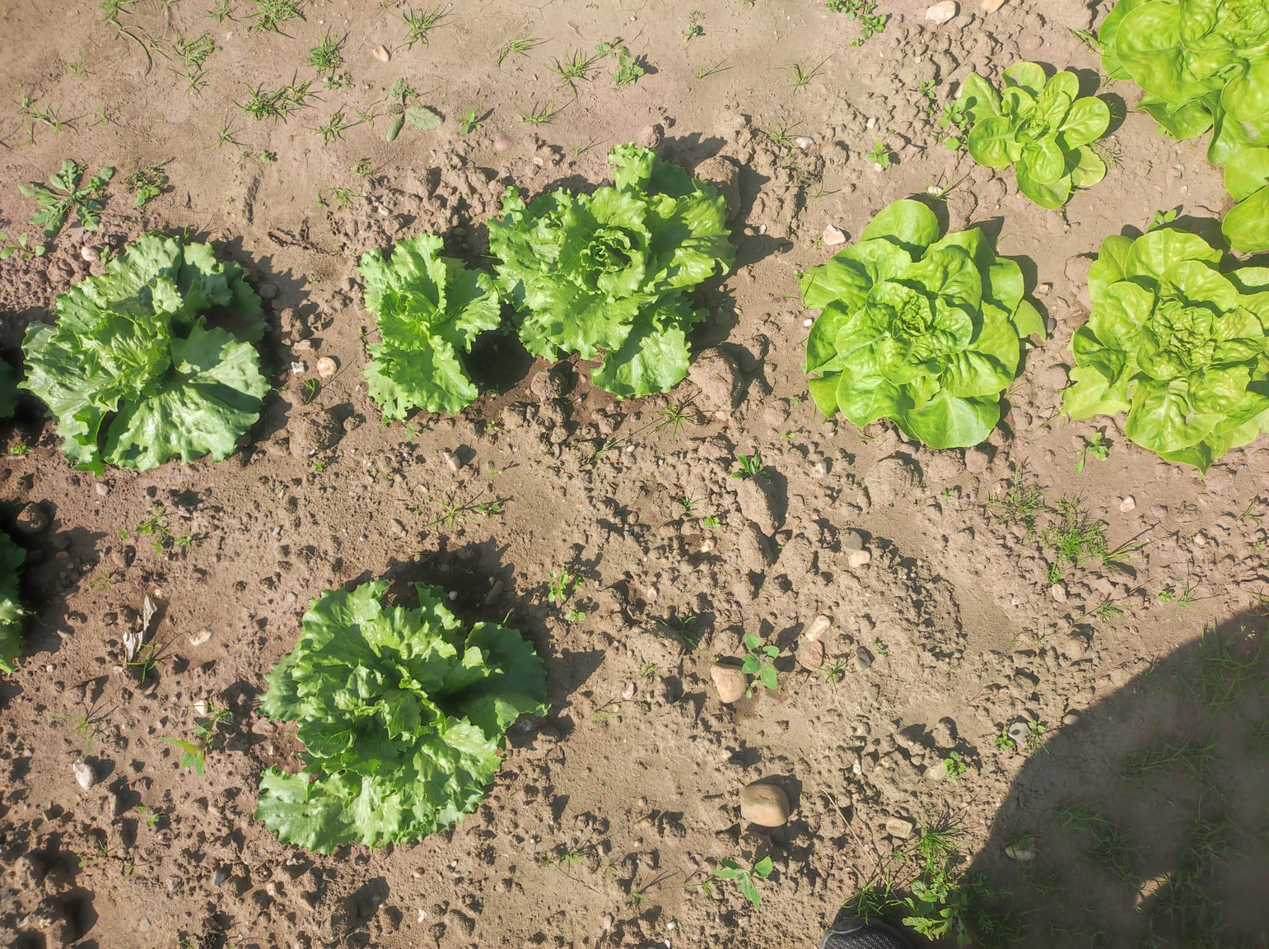Healthy: (253, 580, 546, 854), (488, 143, 735, 396), (19, 232, 268, 474), (801, 201, 1043, 448), (1063, 228, 1269, 471), (1100, 0, 1269, 255), (358, 232, 500, 418), (957, 62, 1110, 208)
